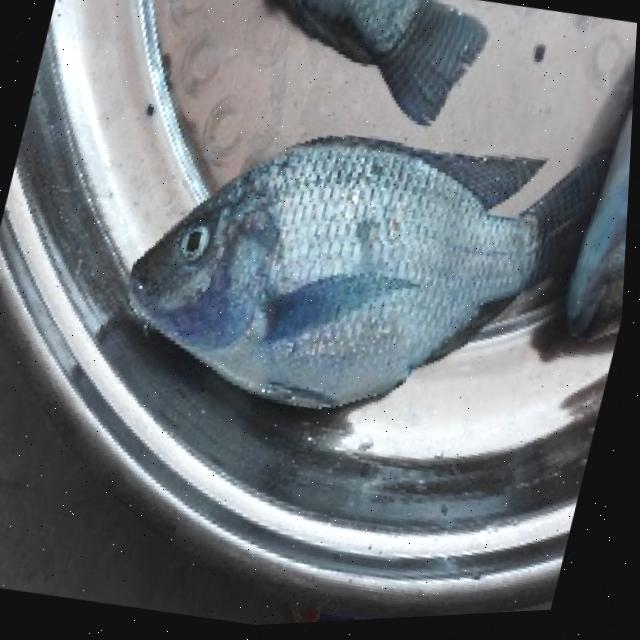Fresh: (85, 95, 594, 443)
